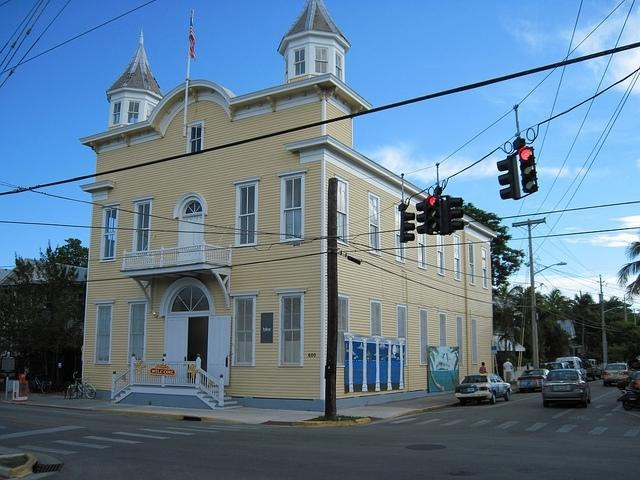non-vehicle: (65, 372, 96, 399), (29, 375, 50, 393)
